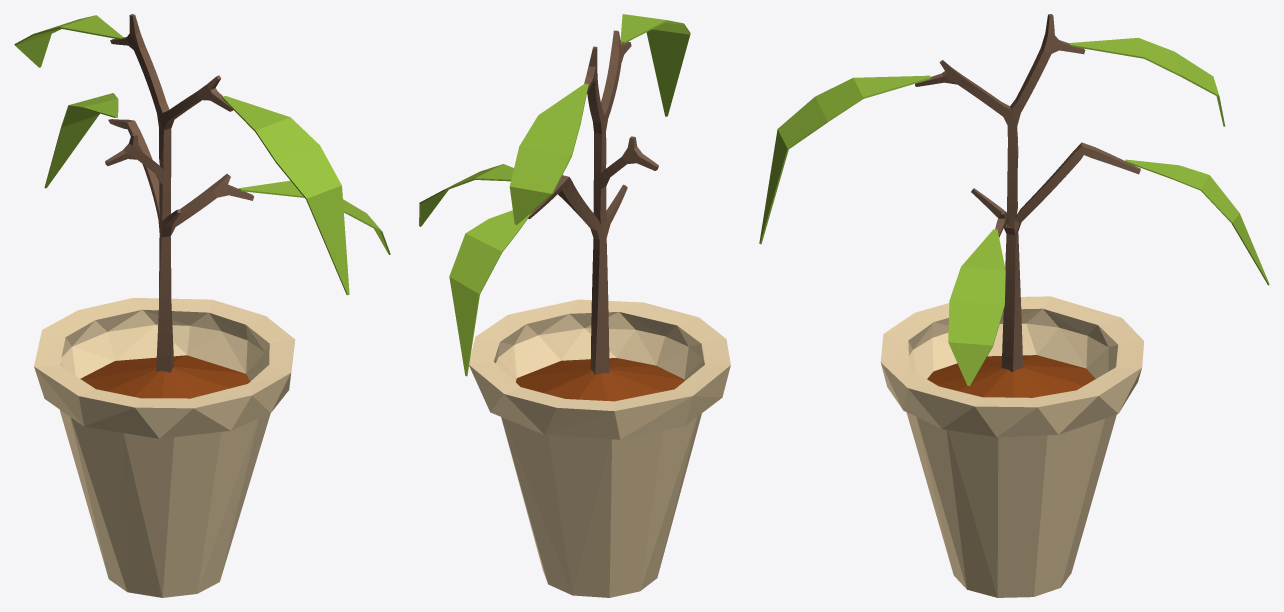
The model's file is plant.glb.
The picture shows the model from 3 angles, left to right: view 1: azimuth 30°, elevation 25°; view 2: azimuth 150°, elevation 25°; view 3: azimuth 270°, elevation 25°; orthographic projection.
Parts seen in each view (by area): view 1: Cylinder, Vert, Plane.004, Plane.002, Plane.005, Plane; view 2: Cylinder, Vert, Plane.005, Plane.002, Plane.004, Plane; view 3: Cylinder, Vert, Plane, Plane.004, Plane.005, Plane.002.
Part boxes in pixels (x1,y1,x2,y2): Cylinder: (34, 298, 295, 597); Vert: (105, 14, 253, 372); Plane.004: (222, 96, 349, 295); Plane.002: (44, 93, 118, 188); Plane.005: (14, 15, 123, 67); Plane: (239, 180, 390, 254); Cylinder: (469, 299, 730, 597); Vert: (528, 30, 658, 374); Plane.005: (509, 83, 588, 224); Plane.002: (449, 210, 532, 376); Plane.004: (620, 14, 690, 116); Plane: (419, 164, 513, 226); Cylinder: (880, 296, 1144, 597); Vert: (915, 14, 1140, 372); Plane: (948, 229, 1005, 385); Plane.004: (759, 75, 930, 244); Plane.005: (1069, 37, 1225, 126); Plane.002: (1124, 159, 1269, 285).
Size of what is drawn, in the model's own units: 3.02 by 5 by 4.19.
